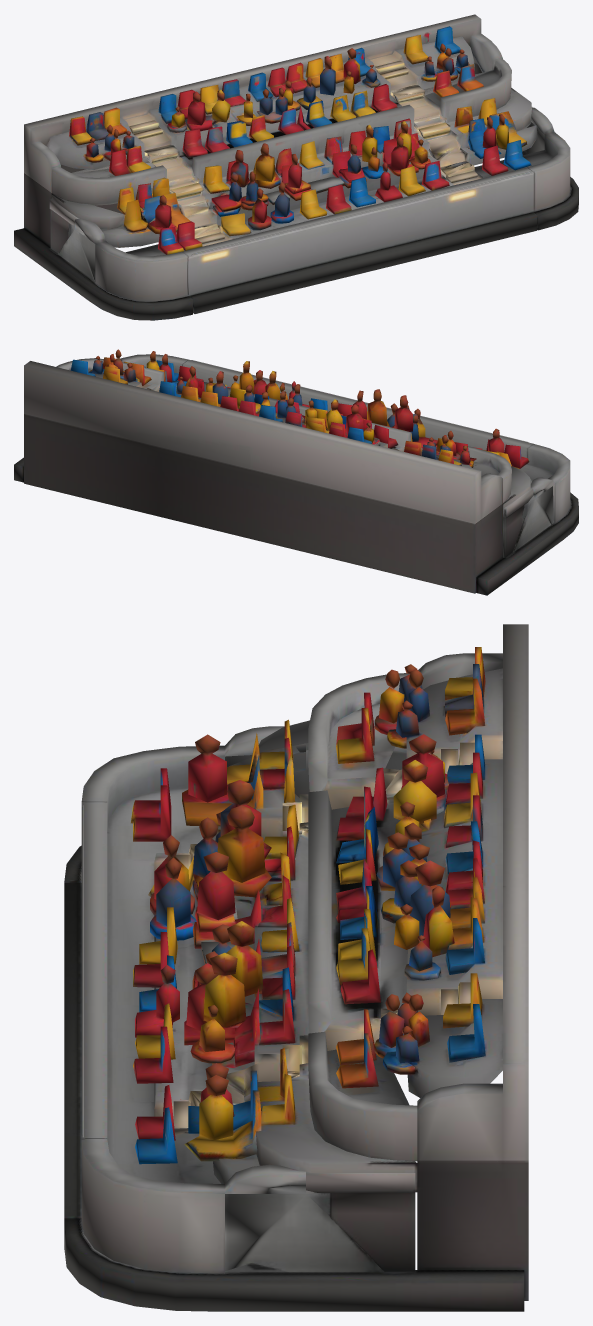
The model's file is straight-stand.glb.
3 views of the same model, one above another, from view 1: azimuth 30°, elevation 25°; view 2: azimuth 150°, elevation 25°; view 3: azimuth 270°, elevation 25° (orthographic). The views are drawn at different scales.
Visible parts, largest first — view 1: Straight stand; view 2: Straight stand; view 3: Straight stand.
Part boxes in pixels (x1,y1,x2,y2): Straight stand: (14,14,578,320); Straight stand: (14,349,578,595); Straight stand: (64,624,528,1311).
Size of the model in its own units: 0.998 by 0.2754 by 0.4238.
1 material, 1 textured.
